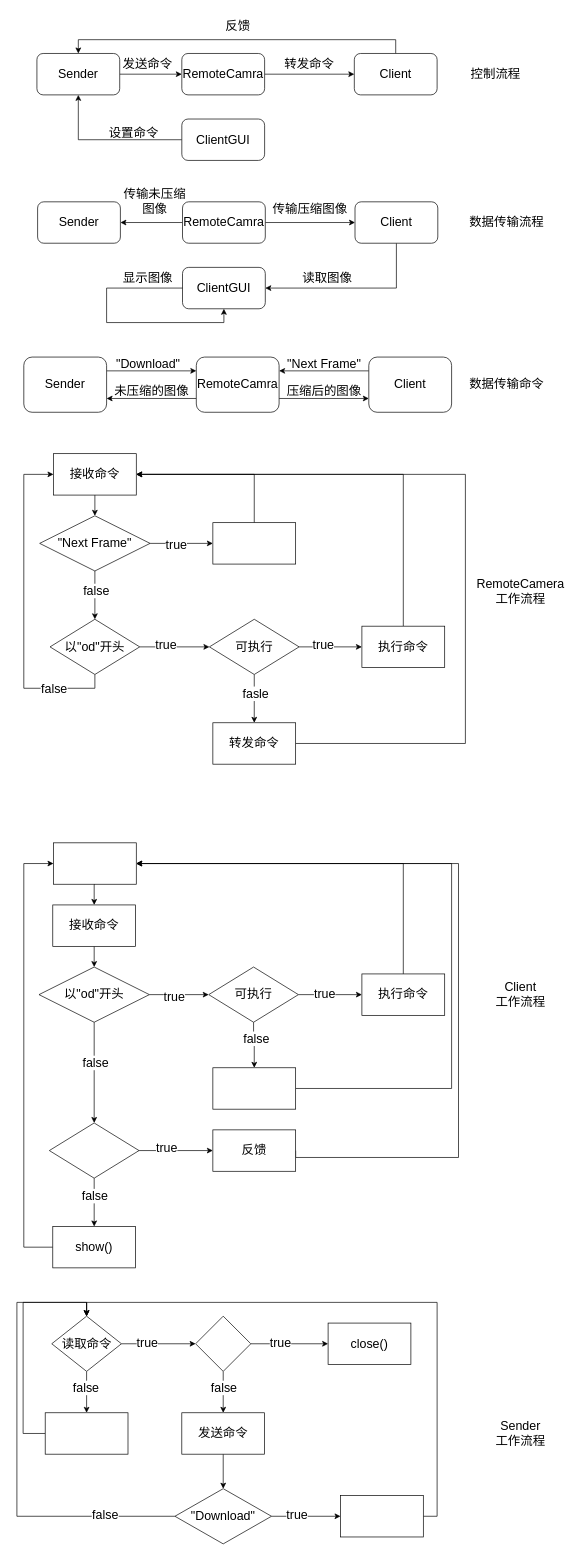
This 576x1556 diagram has some shape labels left out. Here are the shapes that lost their labels. From the top down, the centre of each, then its label:
(254,543): send_frame()
(94,863): 发送 "Next Frame"
(254,1088): 输出命令内容
(94,1150): 以"rp"开头
(223,1343): "Close"
(86,1433): 发送空命令
(381,1516): download()
